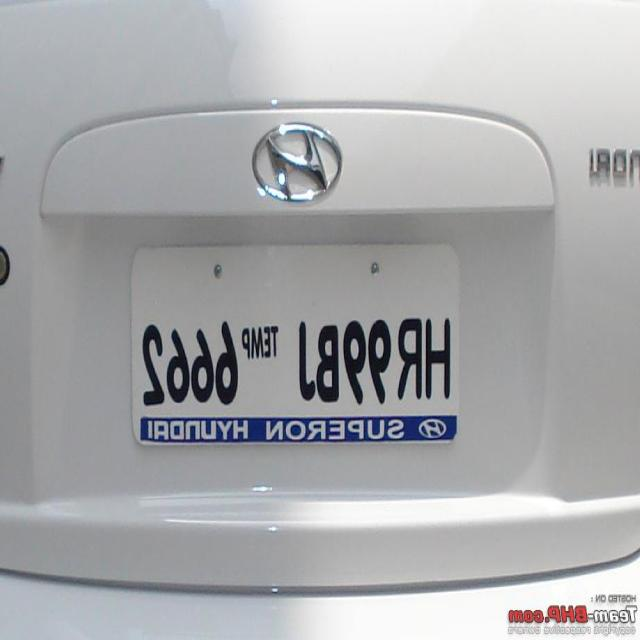number-plate: (121, 259, 470, 466)
